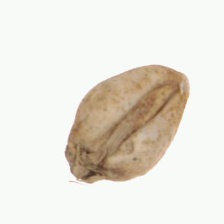L1: (62, 150, 119, 184), (159, 65, 191, 104)
L2: (63, 64, 190, 183)
